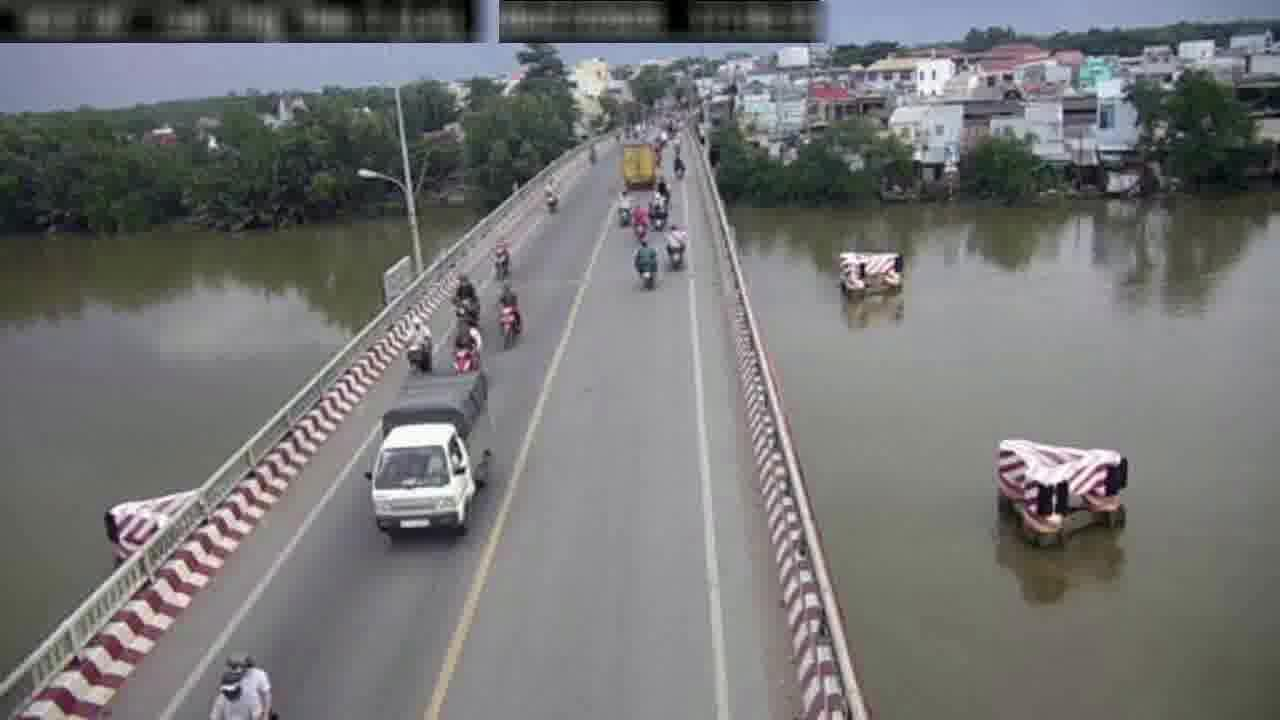8: (364, 363, 493, 546)
motorbike: (405, 315, 432, 380), (450, 315, 479, 375), (497, 278, 522, 347), (452, 270, 483, 323), (633, 234, 656, 290), (666, 221, 687, 273), (489, 234, 512, 276)
